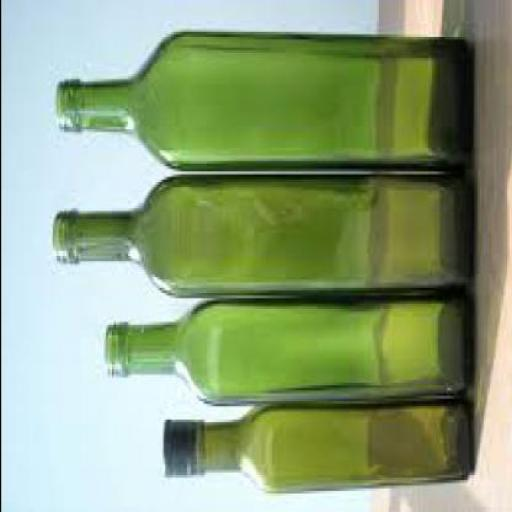glass: (51, 32, 468, 174), (50, 168, 468, 296), (101, 298, 466, 404), (194, 396, 471, 488)
metal: (158, 414, 198, 472)
